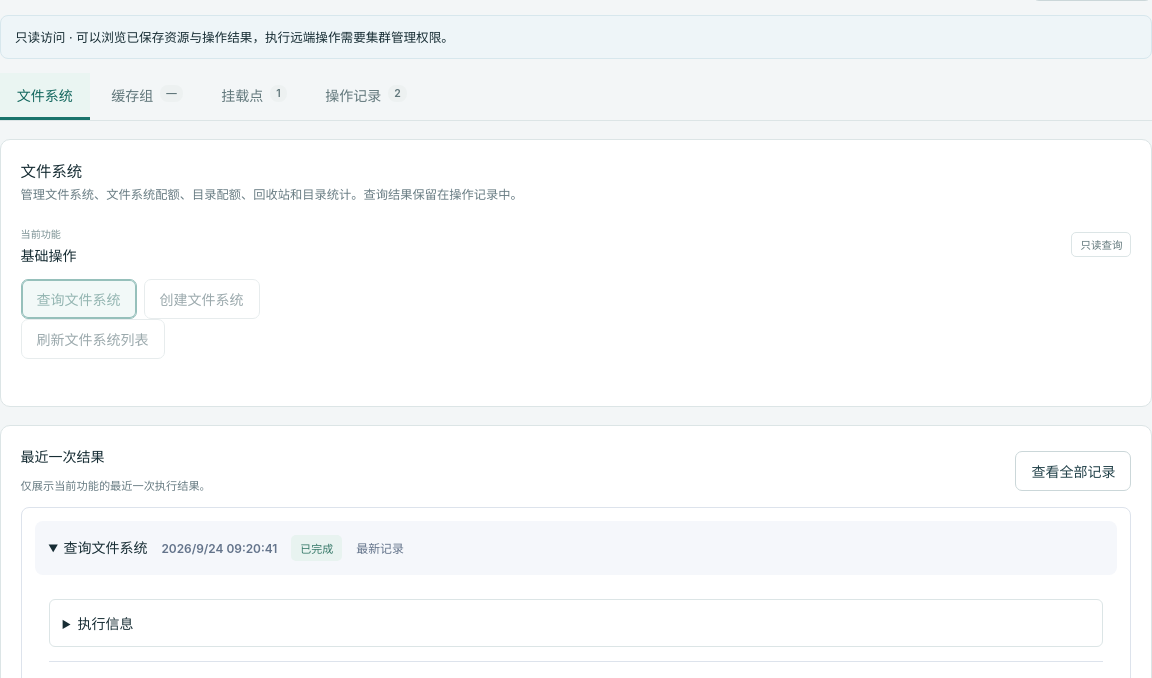
only latest operation starts expanded and historical summaries retain time and status
The image size is (1152, 678).
Click the button "操作记录 2".
click(366, 97)  # box [308, 73, 424, 120]
(page scrolled)
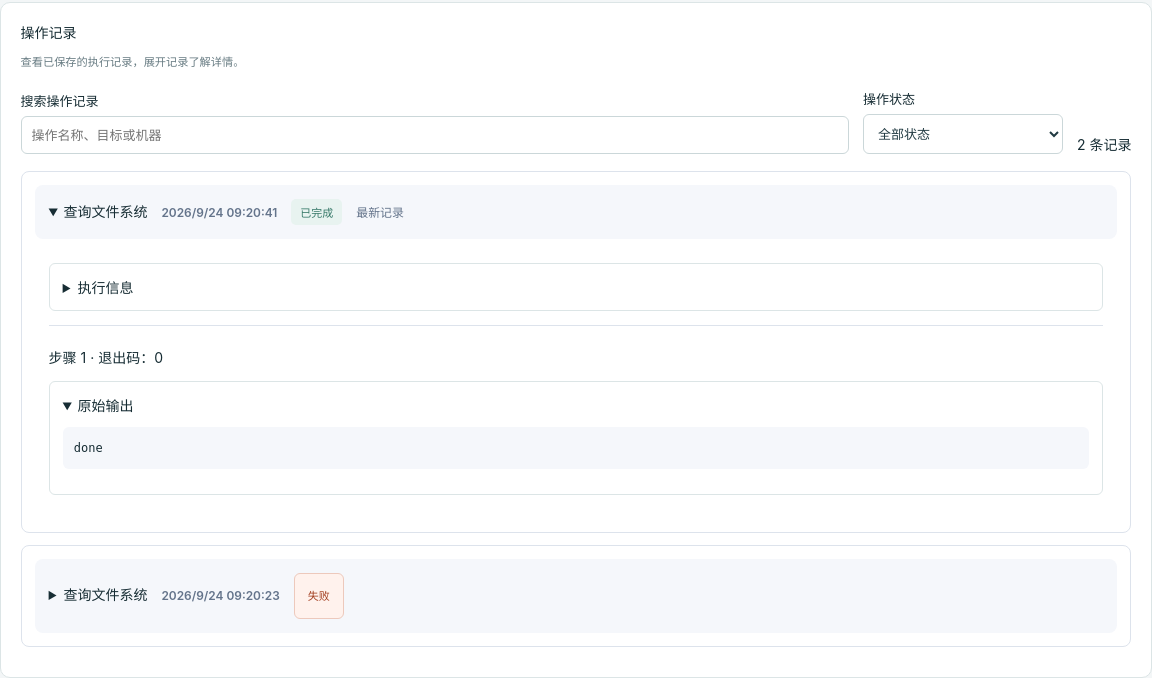
Expected: the number of elements with class "resource-history-entry" is 2, [21, 171, 1131, 533]; [21, 544, 1131, 647]
Expected: the heading "查询文件系统2026/9/24 09:20:23 失败" is shown, [35, 558, 1117, 633]
